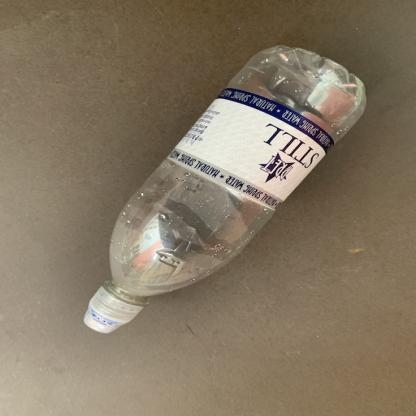trash: (77, 41, 372, 340)
